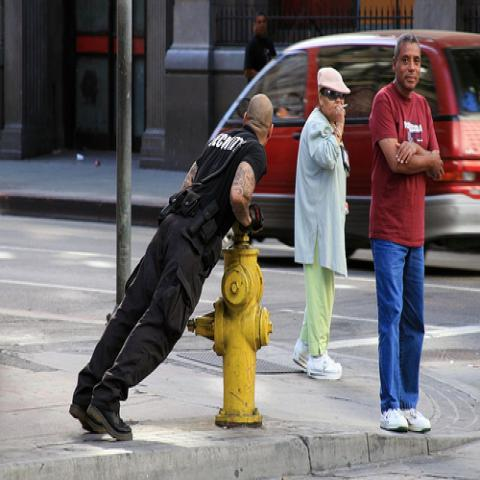car: (211, 26, 479, 261)
